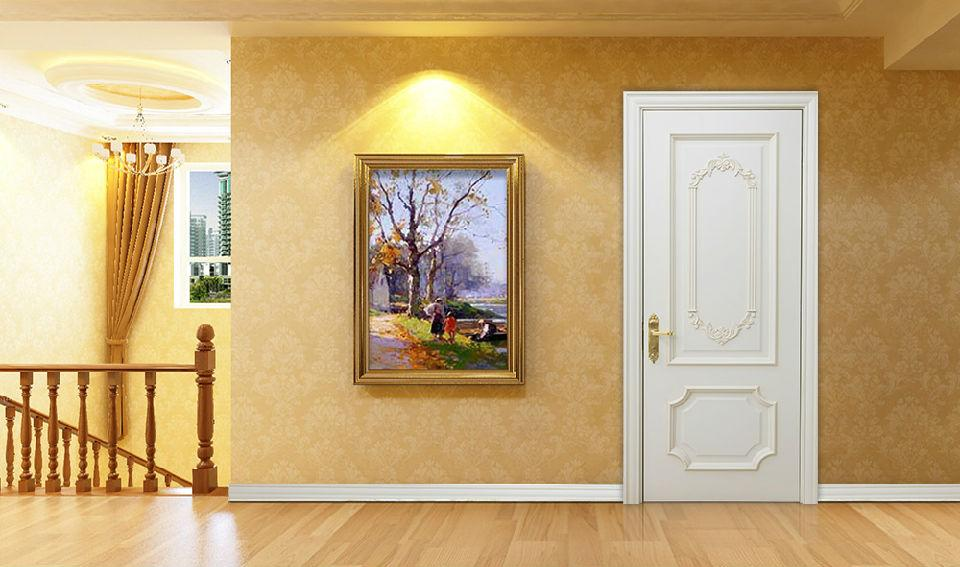door: (640, 104, 802, 505)
